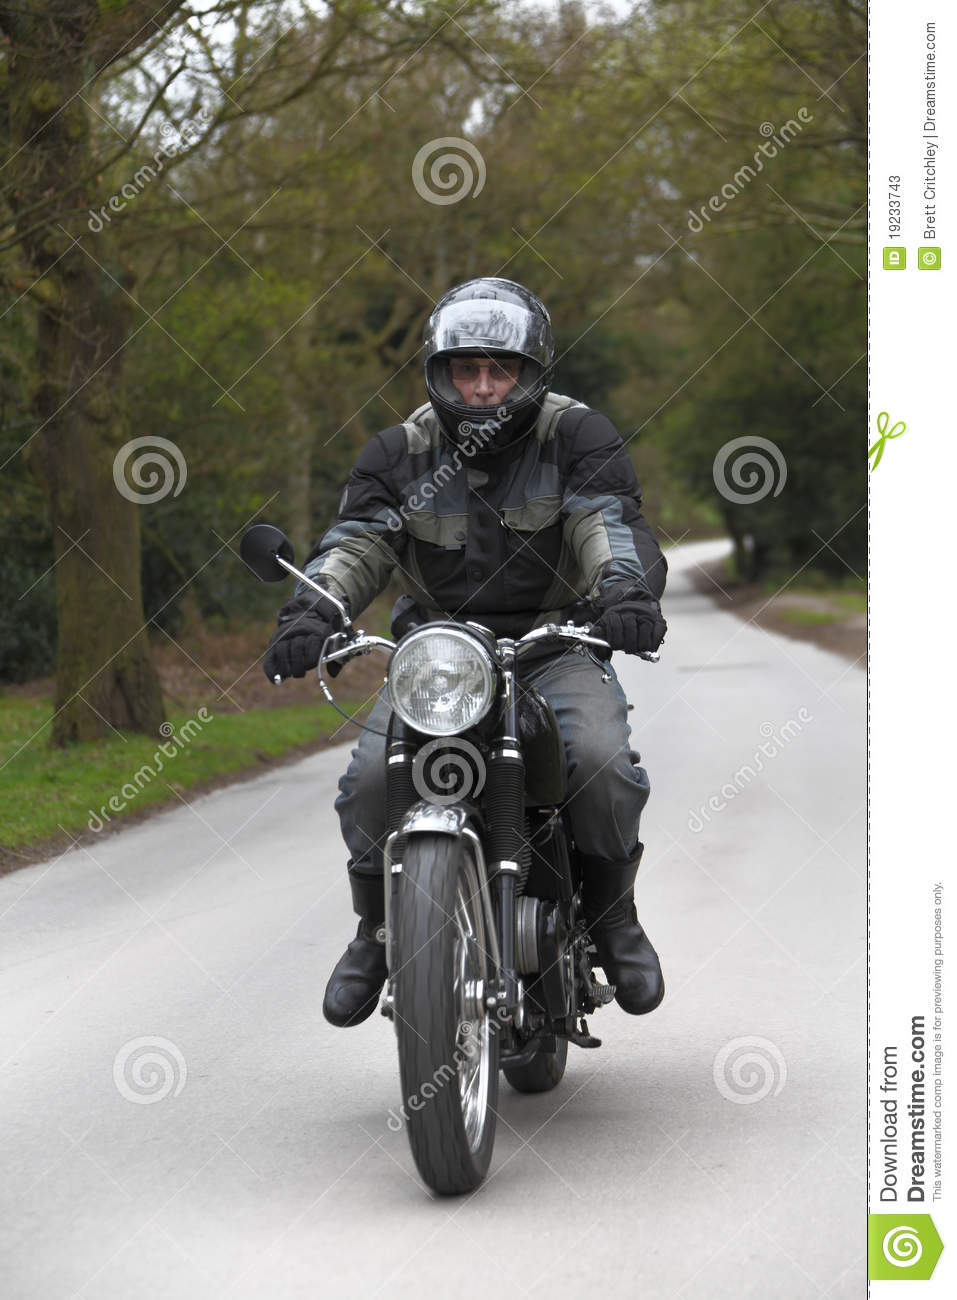helmet: (422, 285, 550, 445)
